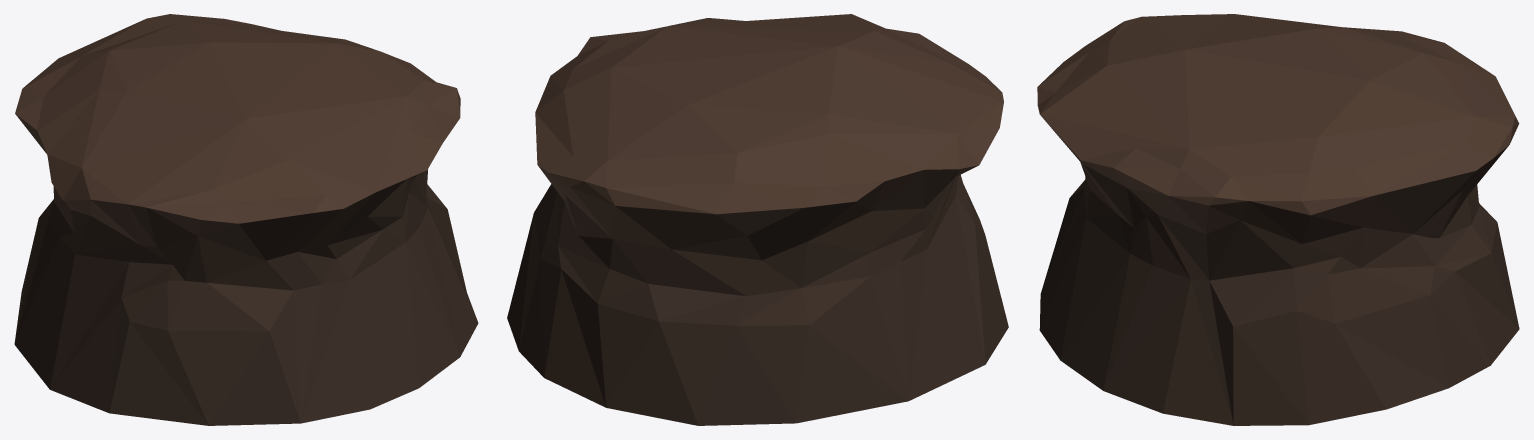
3 renders of one model, left to right at view 1: azimuth 30°, elevation 25°; view 2: azimuth 150°, elevation 25°; view 3: azimuth 270°, elevation 25°, orthographic. The views are drawn at different scales.
Parts seen in each view (by area): view 1: SM_Terrain_GrassEdge_03; view 2: SM_Terrain_GrassEdge_03; view 3: SM_Terrain_GrassEdge_03.
Boxes of the visible parts, x1=… form: SM_Terrain_GrassEdge_03: x1=14, y1=14, x2=478, y2=425; SM_Terrain_GrassEdge_03: x1=507, y1=14, x2=1008, y2=425; SM_Terrain_GrassEdge_03: x1=1037, y1=14, x2=1519, y2=425.
Size of the model in its own units: 4.33 by 2.49 by 4.26.
1 material, 1 textured.
